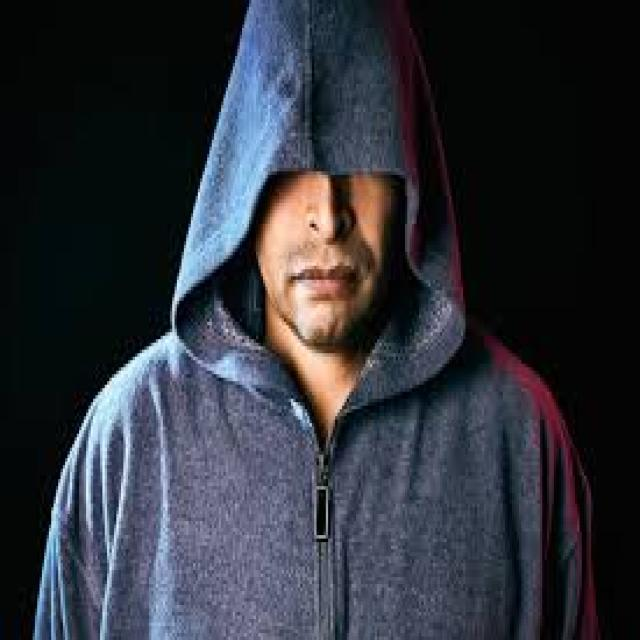4_capucha: (169, 0, 468, 482)
